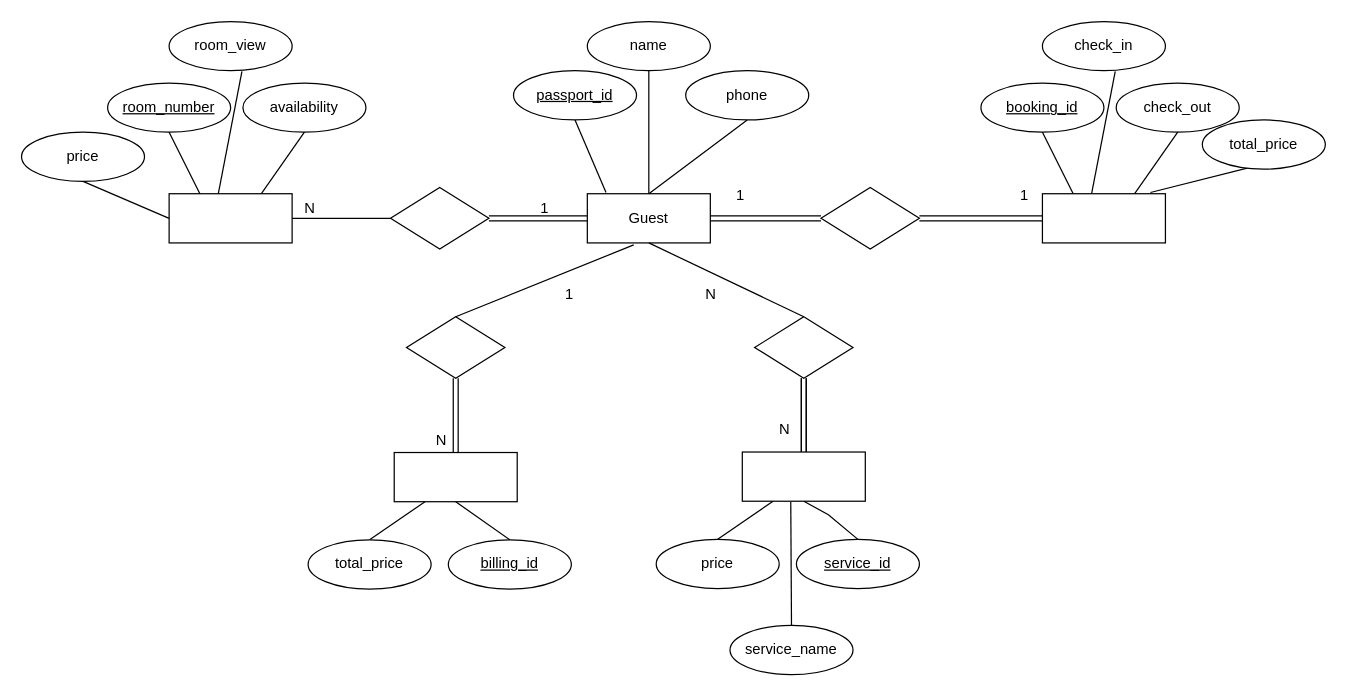
Image size: 1347x696. Some labels were removed from this diagram. Each missing label, with the centre of its shape:
"Billings" belongs at pixel 455 476.
"Bookings" belongs at pixel 1103 217.
"Make" belongs at pixel 869 217.
"Order" belongs at pixel 803 346.
"Pay" belongs at pixel 455 346.
"Reserve" belongs at pixel 439 217.
"Room" belongs at pixel 230 217.
"Services" belongs at pixel 803 476.
